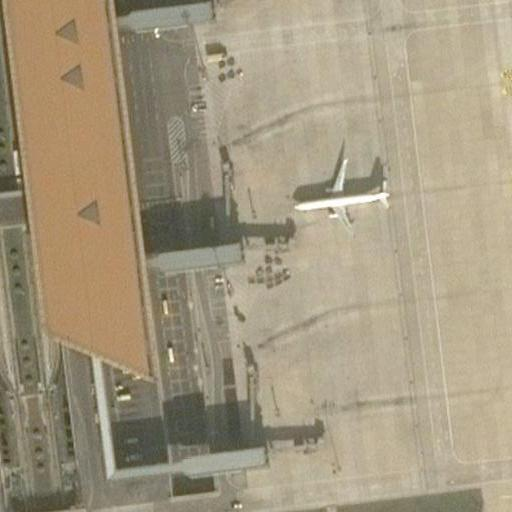Aircraft: (283, 142, 398, 238)
